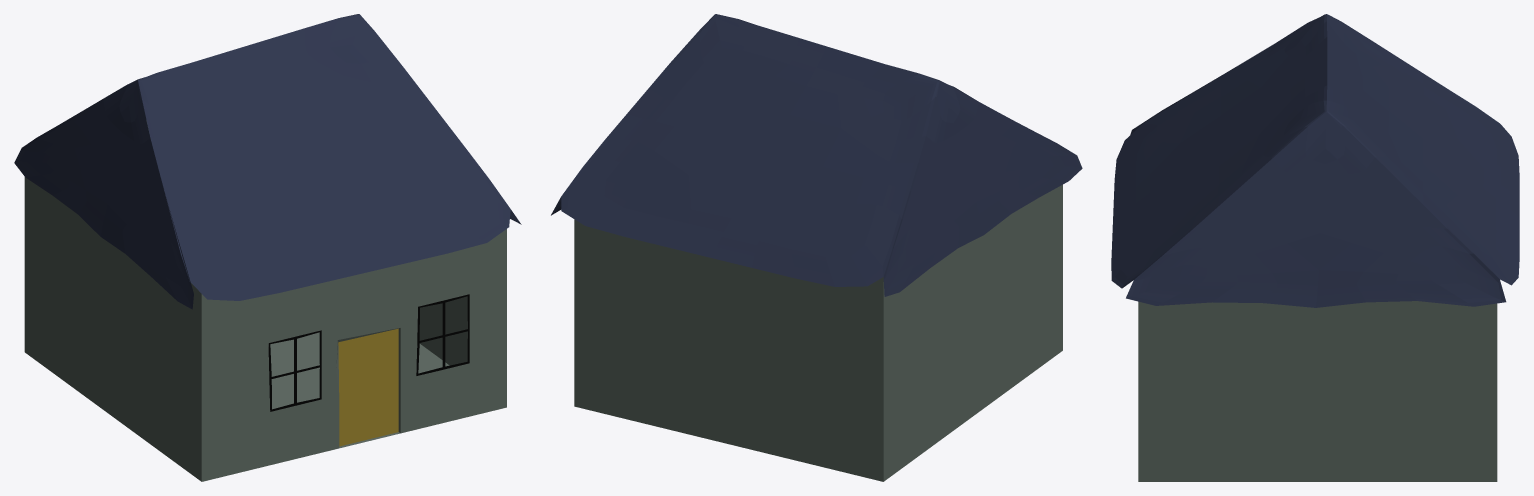
Rendered from Casetta.fbx.
3 renders of one model, left to right at view 1: azimuth 30°, elevation 25°; view 2: azimuth 150°, elevation 25°; view 3: azimuth 270°, elevation 25°, orthographic.
Visible parts, largest first — view 1: Casetta; view 2: Casetta; view 3: Casetta.
Boxes of the visible parts, box(x1,y1,x2,y2) form: Casetta: box(14, 14, 521, 481); Casetta: box(551, 14, 1082, 481); Casetta: box(1111, 14, 1519, 481).
Size of the model in its own units: 476 by 453 by 487.
